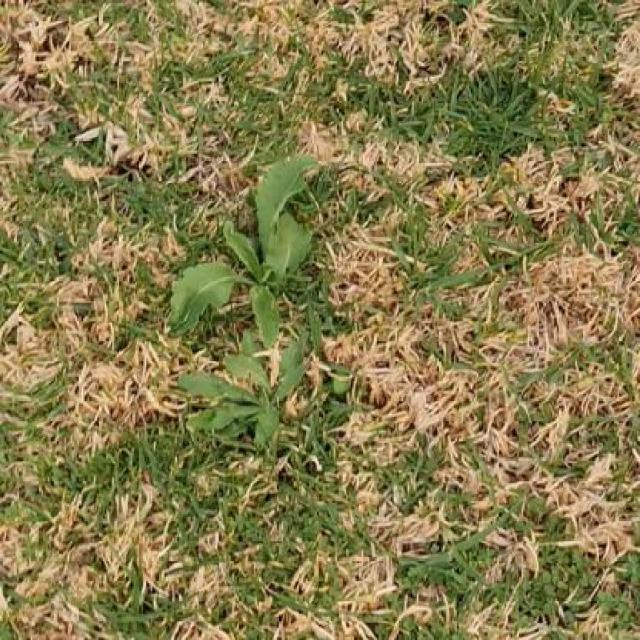weed: (168, 157, 314, 447)
